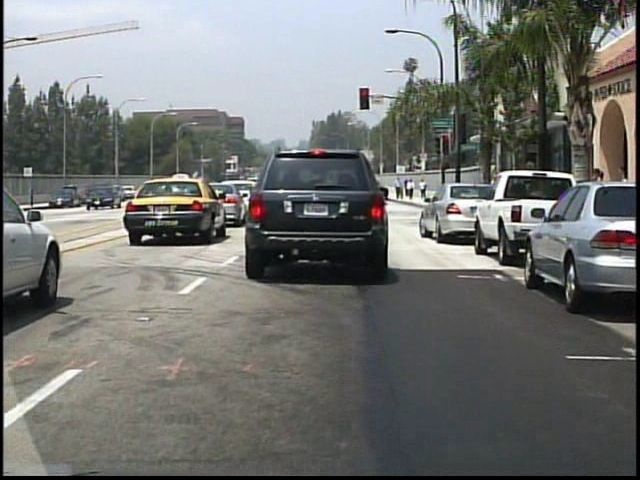person: (588, 163, 611, 235), (397, 176, 406, 199), (420, 177, 429, 200), (408, 177, 416, 200)
